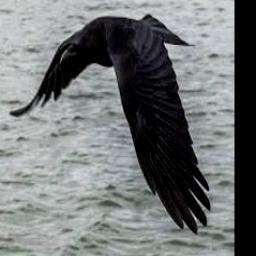Crow: (9, 11, 211, 234)
